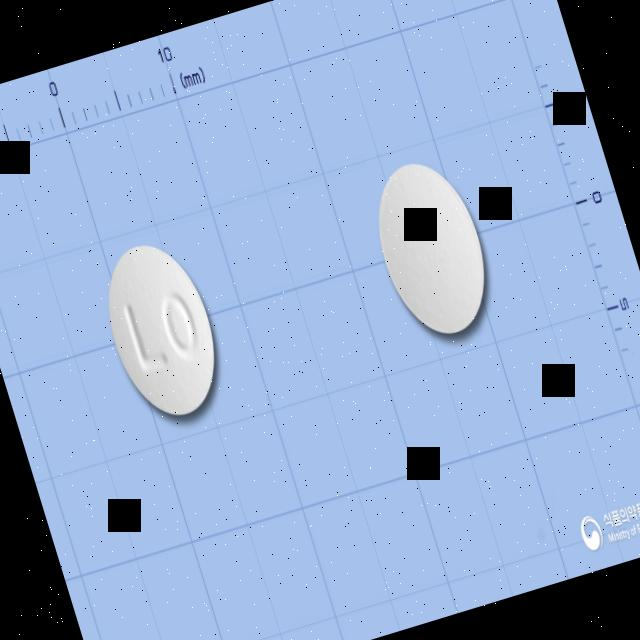Lebofacin: (89, 230, 234, 429)
